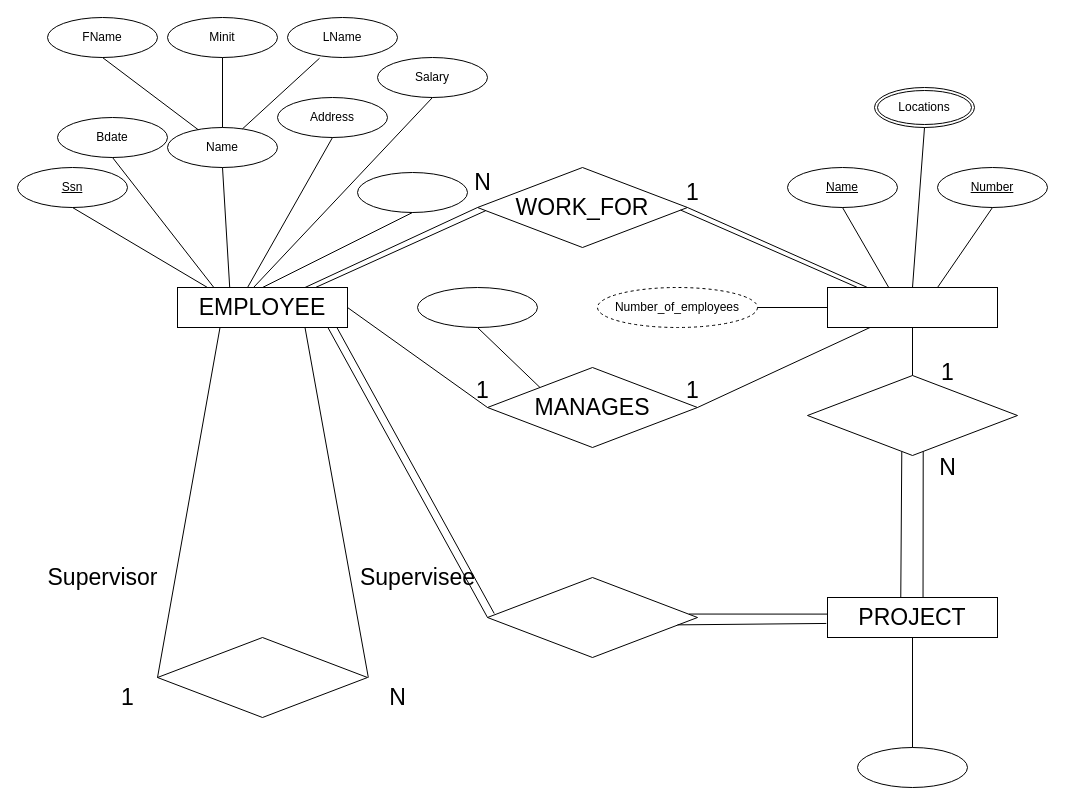
The diagram is 1065 pixels wide and 805 high, and some of its shapes have lost their labels. The shapes that lost their labels are listed below. From the top down, each one's centre as x and y in pixels, then its label:
the point at 412,192: Sex
the point at 477,307: Start_date
the point at 912,307: DEPARTMENT
the point at 912,415: CONTROLS
the point at 592,617: WORK_ON
the point at 262,677: SUPERVISION
the point at 912,767: Location
